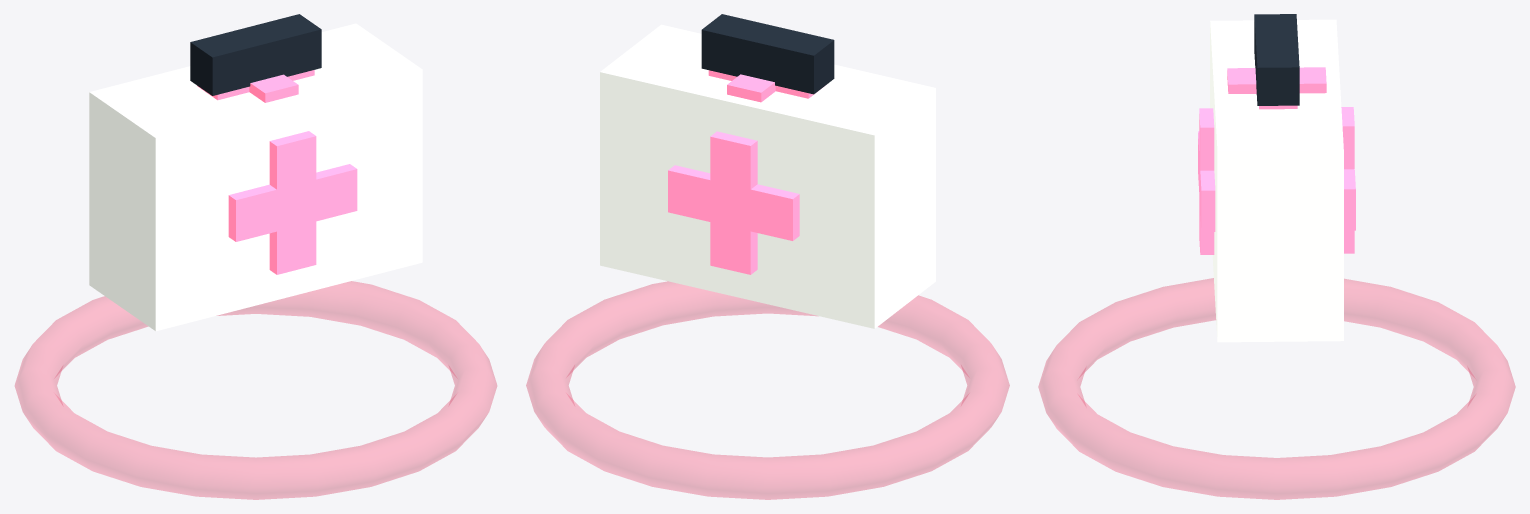
The model's file is pickup_health.glb.
3 renders of one model, left to right at view 1: azimuth 30°, elevation 25°; view 2: azimuth 150°, elevation 25°; view 3: azimuth 270°, elevation 25°, orthographic.
Parts seen in each view (by area): view 1: _MeshInstance3D_4228, _MeshInstance3D_4236, _MeshInstance3D_4229, _MeshInstance3D_4233, _MeshInstance3D_4232, _MeshInstance3D_4235; view 2: _MeshInstance3D_4228, _MeshInstance3D_4236, _MeshInstance3D_4229, _MeshInstance3D_4230, _MeshInstance3D_4231, _MeshInstance3D_4235; view 3: _MeshInstance3D_4236, _MeshInstance3D_4228, _MeshInstance3D_4229, _MeshInstance3D_4235, _MeshInstance3D_4233, _MeshInstance3D_4232, _MeshInstance3D_4231, _MeshInstance3D_4230.
Boxes of the visible parts, x1=… form: _MeshInstance3D_4228: x1=89, y1=23, x2=422, y2=331; _MeshInstance3D_4236: x1=14, y1=281, x2=497, y2=499; _MeshInstance3D_4229: x1=190, y1=14, x2=321, y2=95; _MeshInstance3D_4233: x1=269, y1=131, x2=316, y2=274; _MeshInstance3D_4232: x1=228, y1=164, x2=357, y2=241; _MeshInstance3D_4235: x1=249, y1=74, x2=298, y2=102; _MeshInstance3D_4228: x1=600, y1=24, x2=935, y2=328; _MeshInstance3D_4236: x1=526, y1=281, x2=1009, y2=499; _MeshInstance3D_4229: x1=701, y1=14, x2=834, y2=94; _MeshInstance3D_4230: x1=668, y1=165, x2=799, y2=240; _MeshInstance3D_4231: x1=710, y1=131, x2=757, y2=274; _MeshInstance3D_4235: x1=727, y1=74, x2=775, y2=102; _MeshInstance3D_4236: x1=1038, y1=278, x2=1515, y2=499; _MeshInstance3D_4228: x1=1210, y1=19, x2=1343, y2=342; _MeshInstance3D_4229: x1=1254, y1=14, x2=1299, y2=105; _MeshInstance3D_4235: x1=1227, y1=67, x2=1326, y2=93; _MeshInstance3D_4233: x1=1199, y1=108, x2=1214, y2=254; _MeshInstance3D_4232: x1=1198, y1=131, x2=1215, y2=231; _MeshInstance3D_4231: x1=1341, y1=107, x2=1354, y2=253; _MeshInstance3D_4230: x1=1344, y1=169, x2=1355, y2=230.
Bounding box in the file's own units: 0.68 × 0.5695 × 0.68.
